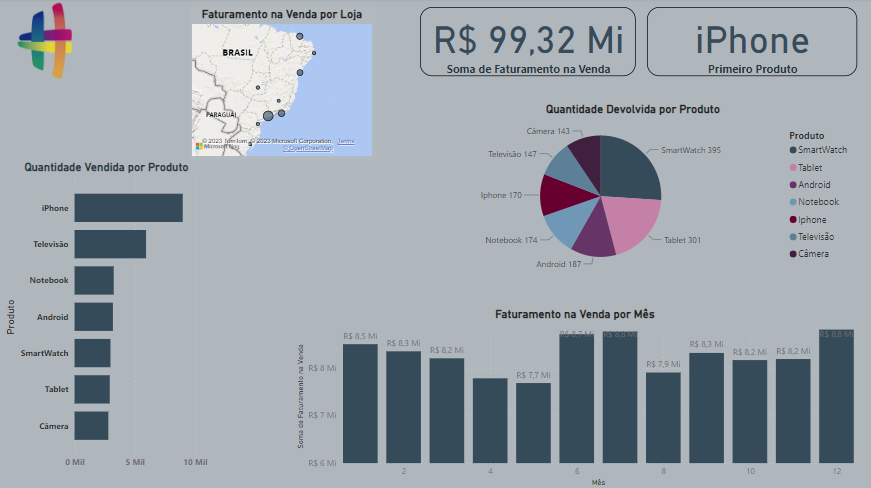

The dashboard page shown, as its layout file describes it:
{"tool":"powerbi","page":{"name":"Página 1","canvas":[1280,720],"ordinal":0},"visuals":[{"type":"image","box":[10.1,0,194.9,194.9],"z":0},{"type":"barChart","title":"Quantidade Vendida por Produto","fields":{"Y":["Sum(Base Vendas.Quantidade Vendida)"],"Category":["Base Vendas.Produto"]},"box":[10.2,236.6,305.2,460],"z":1000},{"type":"card","fields":{"Values":["Sum(Base Vendas.Faturamento na Venda)"]},"box":[639.7,13.1,315.5,100.8],"z":2000},{"type":"card","fields":{"Values":["Min(Base Vendas.Produto)"]},"box":[972.7,13.1,306.7,100.8],"z":3000},{"type":"columnChart","title":"Faturamento na Venda por Mês","fields":{"Y":["Sum(Base Vendas.Faturamento na Venda)"],"Category":["Base Vendas.Mês"]},"box":[435.2,467.3,823.7,251.2],"z":4000},{"type":"pieChart","title":"Quantidade Devolvida por Produto","fields":{"Y":["Sum(Base Devoluções.Quantidade Devolvida)"],"Category":["Base Devoluções.Produto"]},"box":[604.6,151.9,592.9,235.1],"z":5000},{"type":"map","title":"Faturamento na Venda por Loja","fields":{"Category":["Base Vendas.Loja"],"Size":["Sum(Base Vendas.Faturamento na Venda)"]},"box":[330.1,13.1,286.2,277.5],"z":6000}]}

Visuals, with their boxes in screenshot pixels (x1, y1, x2, y2), scaled from the page's 1280x720 canvas onto the 871x488 screenshot:
image: <region>7, 0, 139, 132</region>
"Quantidade Vendida por Produto" barChart: <region>7, 160, 215, 472</region>
card - Sum(Base Vendas.Faturamento na Venda): <region>435, 9, 650, 77</region>
card - Min(Base Vendas.Produto): <region>662, 9, 870, 77</region>
"Faturamento na Venda por Mês" columnChart: <region>296, 317, 857, 487</region>
"Quantidade Devolvida por Produto" pieChart: <region>411, 103, 815, 262</region>
"Faturamento na Venda por Loja" map: <region>225, 9, 419, 197</region>
